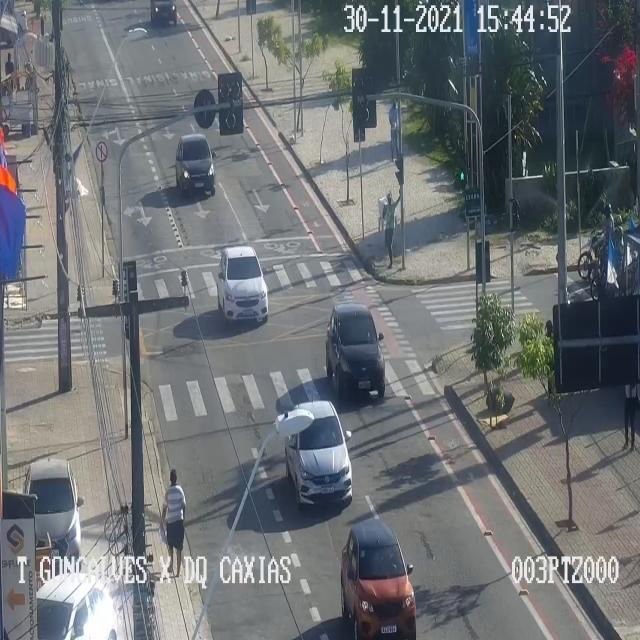Car: (340, 524, 416, 639), (285, 402, 353, 504), (35, 568, 123, 637), (26, 458, 84, 556), (325, 305, 385, 398), (216, 247, 268, 326), (174, 135, 216, 197), (150, 0, 182, 28)
Motorcycle: (578, 204, 628, 278), (590, 227, 638, 300)
